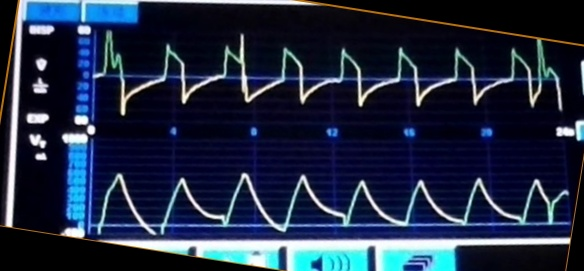Double_Triggering Flow: (97, 30, 563, 117)
Double_Triggering Volume: (97, 166, 570, 237)
